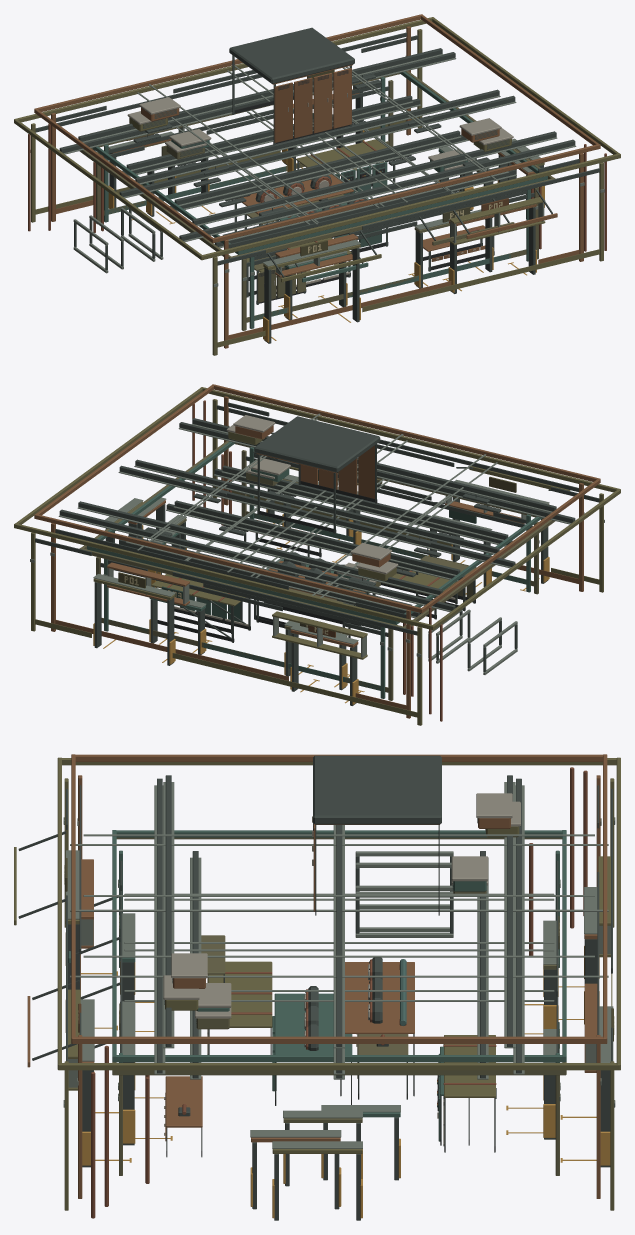
The model's file is detail.glb.
The picture shows the model from 3 angles, top to bottom: view 1: azimuth 30°, elevation 25°; view 2: azimuth 150°, elevation 25°; view 3: azimuth 270°, elevation 25°; orthographic projection. The views are drawn at different scales.
Visible parts, largest first — view 1: crusher-trim, transfer-trim, pump-trim, service-trim, crusher-equipment, pump-equipment, transfer-equipment, service-equipment; view 2: transfer-trim, crusher-trim, pump-trim, service-trim, crusher-equipment, pump-equipment, transfer-equipment; view 3: crusher-trim, transfer-trim, pump-trim, service-trim, crusher-equipment, pump-equipment, transfer-equipment, service-equipment.
Part boxes in pixels (<box>): crusher-trim: <box>34,14,600,348</box>; transfer-trim: <box>14,17,620,355</box>; pump-trim: <box>92,71,547,328</box>; service-trim: <box>79,71,555,330</box>; crusher-equipment: <box>139,27,501,232</box>; pump-equipment: <box>169,129,468,217</box>; transfer-equipment: <box>127,111,513,151</box>; service-equipment: <box>165,140,472,201</box>; transfer-trim: <box>14,387,620,725</box>; crusher-trim: <box>34,384,600,718</box>; pump-trim: <box>87,441,542,698</box>; service-trim: <box>79,441,555,700</box>; crusher-equipment: <box>233,415,392,589</box>; pump-equipment: <box>249,457,369,580</box>; transfer-equipment: <box>226,425,398,581</box>; crusher-trim: <box>27,754,607,1209</box>; transfer-trim: <box>14,757,620,1220</box>; pump-trim: <box>68,830,566,1180</box>; service-trim: <box>80,837,566,1186</box>; crusher-equipment: <box>171,755,512,1116</box>; pump-equipment: <box>196,856,488,1050</box>; transfer-equipment: <box>163,801,520,1010</box>; service-equipment: <box>195,880,488,1046</box>.
Bounding box in the file's own units: 26.71 × 11.21 × 22.31.
